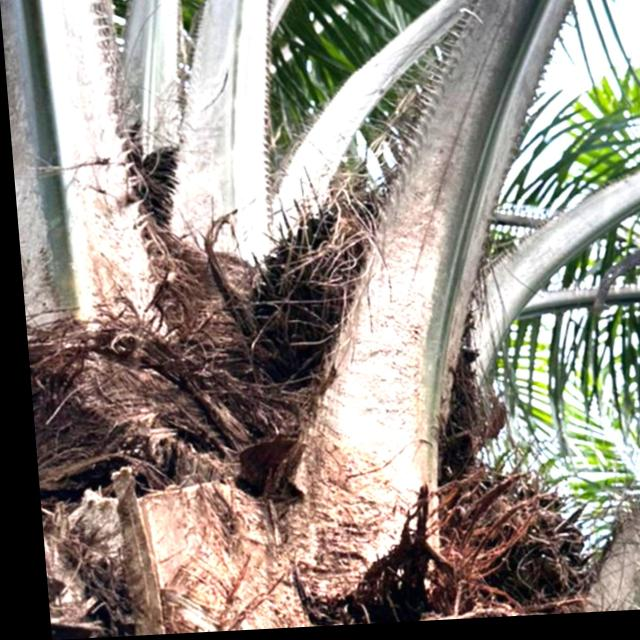unripe: (216, 166, 494, 454)
